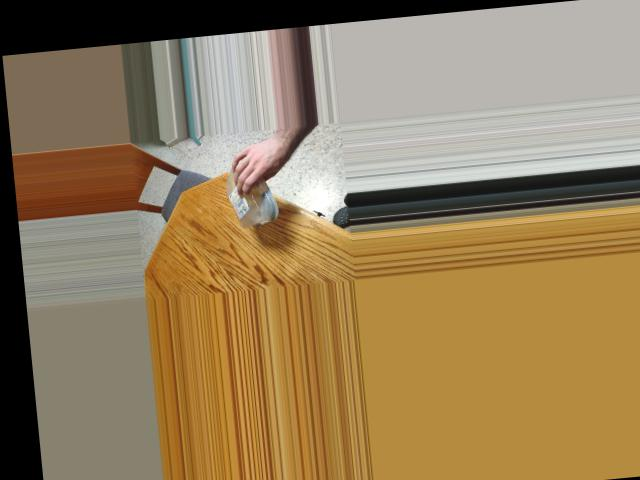cheese: (223, 165, 276, 225)
